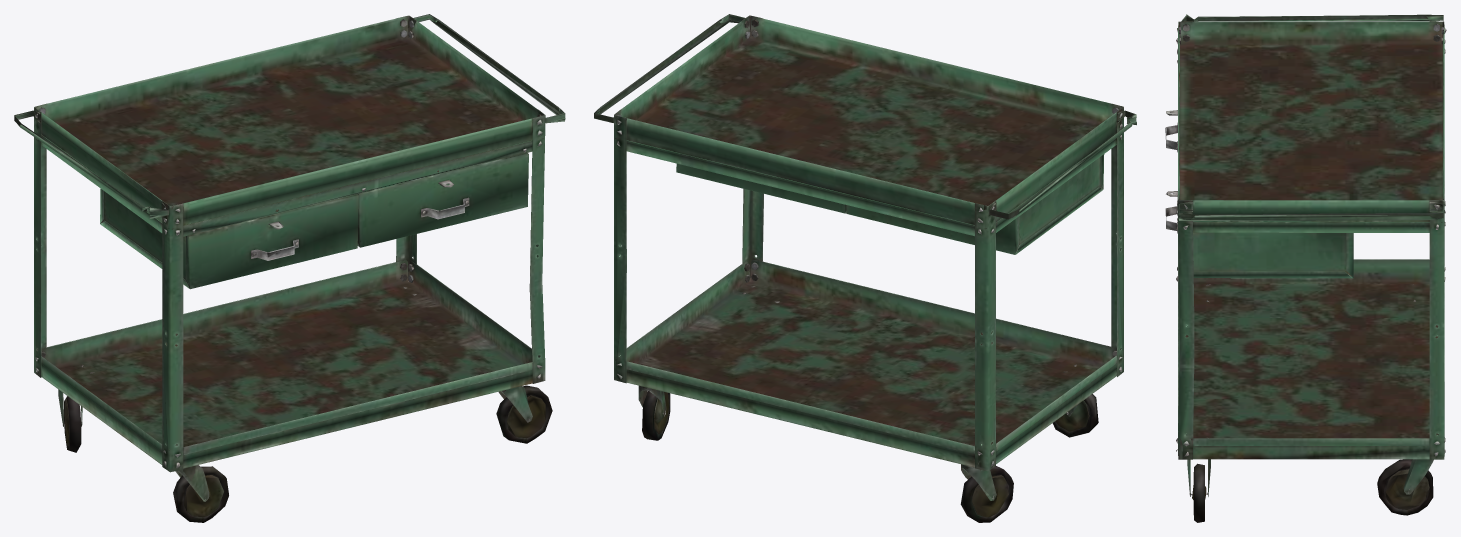
The model's file is tool_cart.l.ef8d090f.glb.
The picture shows the model from 3 angles, left to right: view 1: azimuth 30°, elevation 25°; view 2: azimuth 150°, elevation 25°; view 3: azimuth 270°, elevation 25°; orthographic projection. The views are drawn at different scales.
Visible parts, largest first — view 1: tool_cart; view 2: tool_cart; view 3: tool_cart.
Boxes of the visible parts, x1,y1,x2,y2 form: tool_cart: (14, 14, 565, 522); tool_cart: (594, 14, 1136, 522); tool_cart: (1165, 14, 1446, 522).
Bounding box in the file's own units: 1.27 × 0.962 × 0.7537.
1 material, 1 textured.
